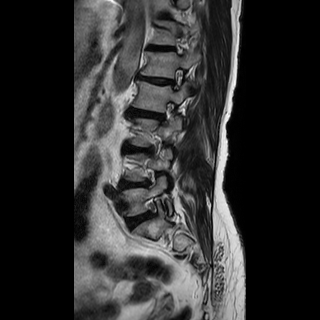LFS0: (161, 61, 188, 97), (138, 193, 165, 224)
